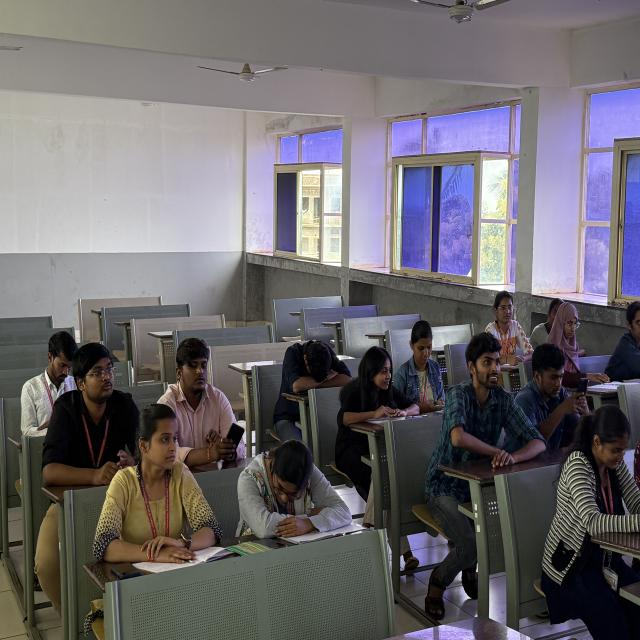Reading: (542, 302, 610, 387)
Sleeping: (234, 431, 351, 556), (272, 320, 351, 446)
Using Phone: (165, 336, 257, 481), (512, 340, 592, 452), (390, 312, 453, 418)
